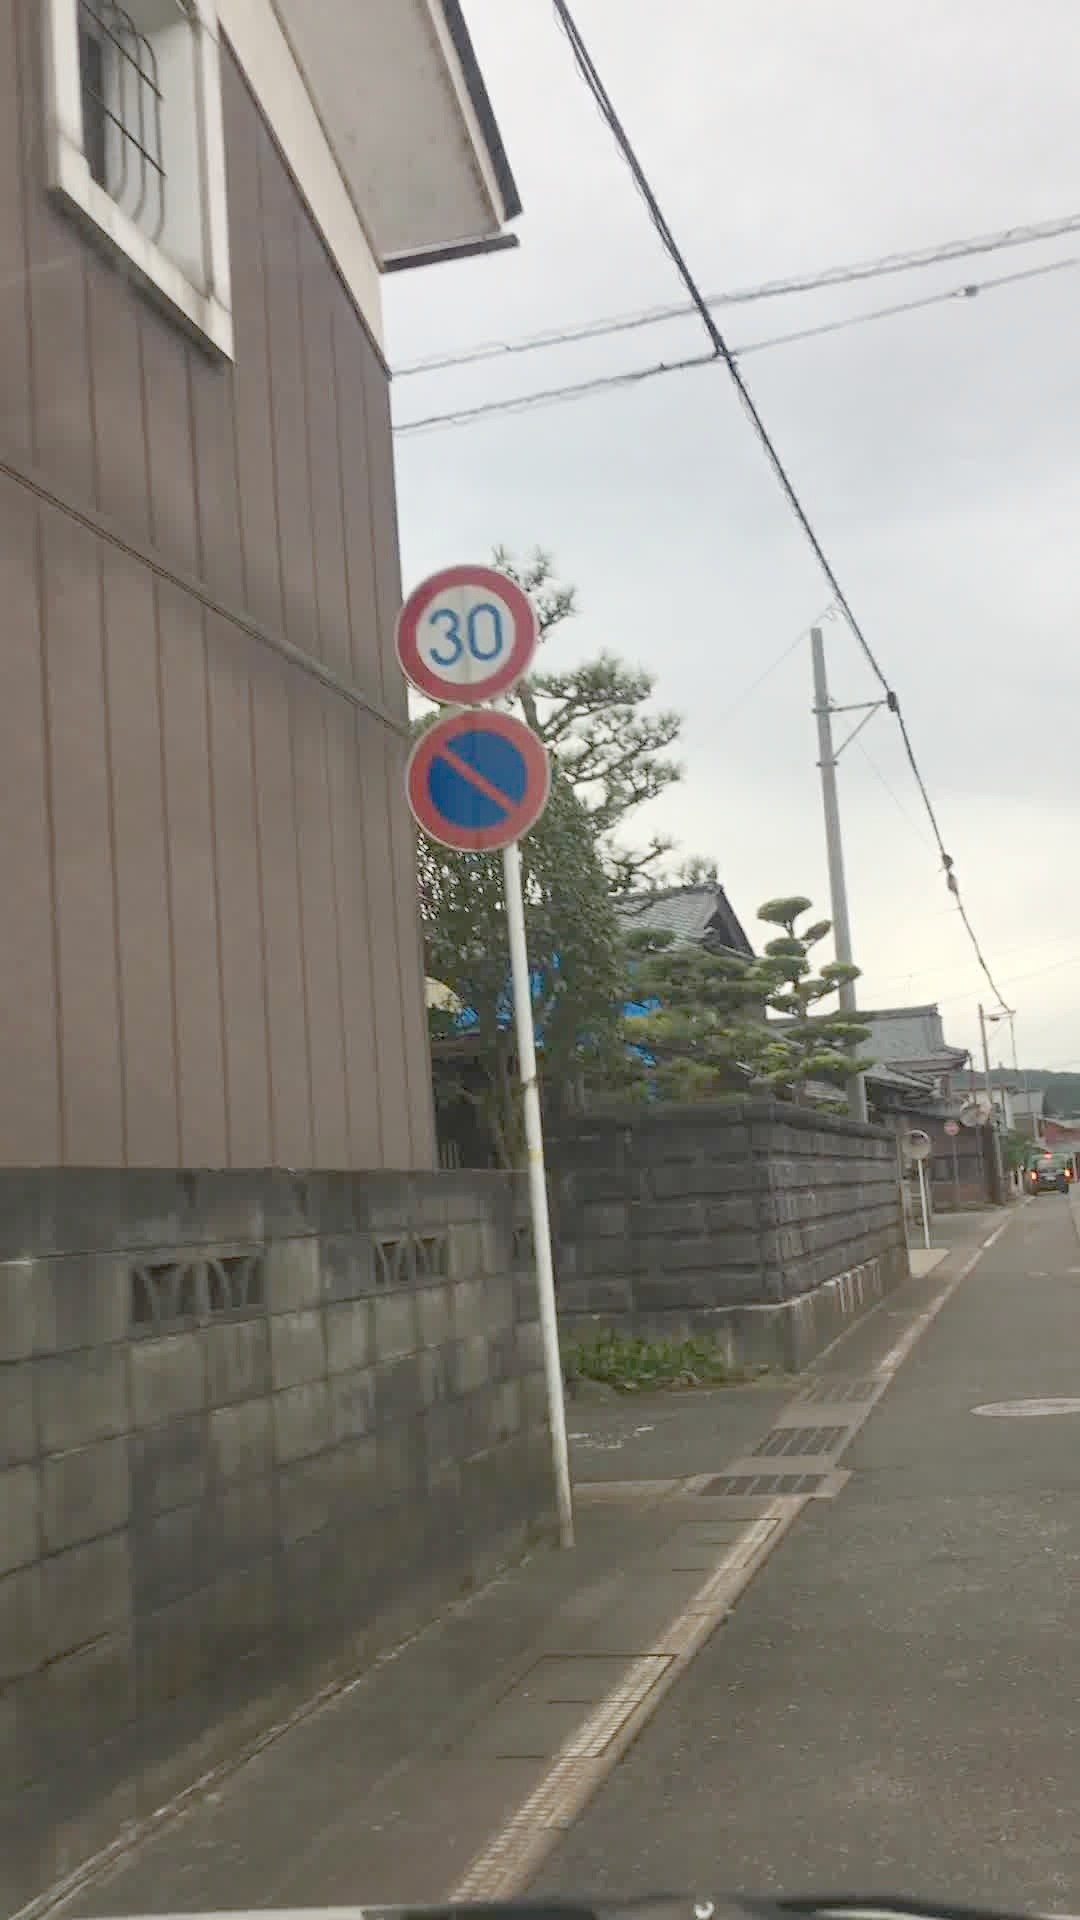Prohibition_sign: (411, 705, 564, 856)
Speed_sign: (392, 570, 550, 708)
